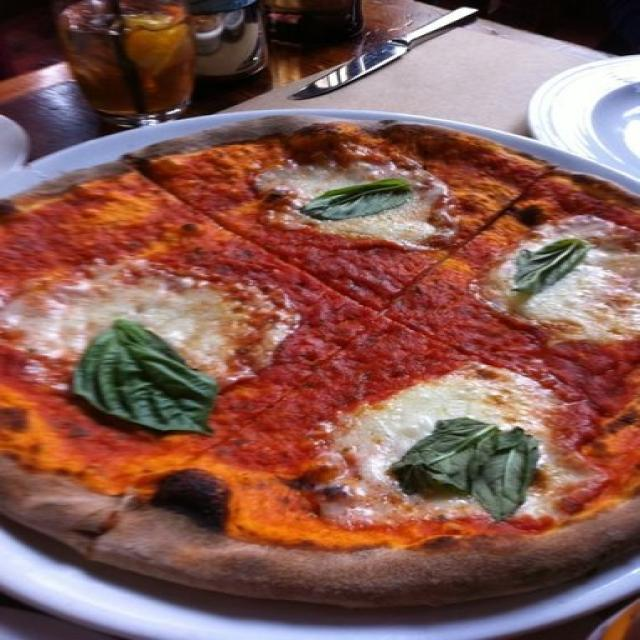Basil: (77, 325, 216, 436), (404, 411, 536, 513), (512, 234, 580, 294), (307, 178, 410, 216)
Cheese: (352, 366, 560, 524), (27, 271, 286, 370), (255, 160, 456, 251), (501, 207, 640, 335)
Pizza: (0, 118, 640, 616)
